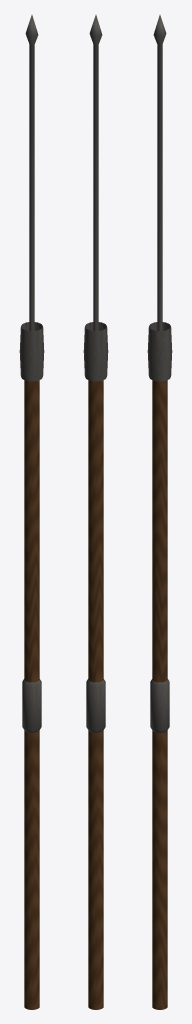
File: pilum.glb
The picture shows the model from 3 angles, left to right: view 1: azimuth 30°, elevation 25°; view 2: azimuth 210°, elevation 25°; view 3: azimuth 330°, elevation 25°; orthographic projection.
Visible parts, largest first — view 1: pilum; view 2: pilum; view 3: pilum.
Boxes of the visible parts, left/top/right/bottom form: pilum: left=19, top=15, right=44, bottom=1009; pilum: left=83, top=15, right=108, bottom=1009; pilum: left=147, top=15, right=172, bottom=1009.
Size of the model in its own units: 0.044 by 1.97 by 0.044.
2 materials, 2 textured.
